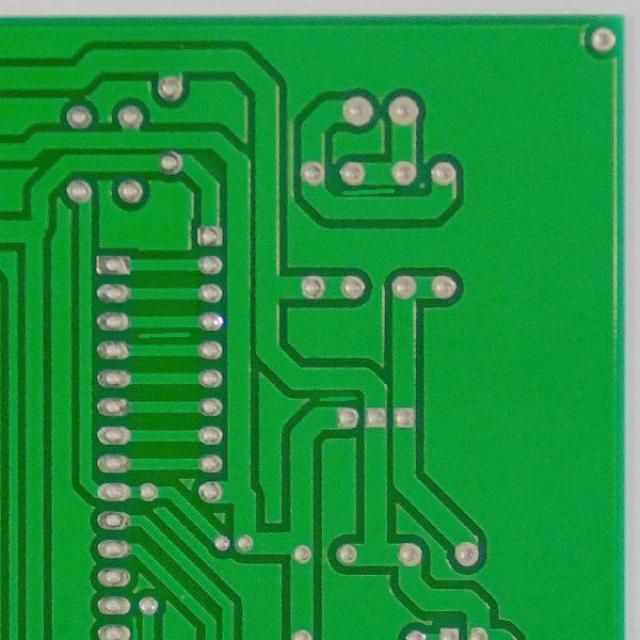Spurious_Cooper: (337, 182, 398, 198), (135, 326, 194, 342), (317, 392, 360, 404), (129, 611, 142, 639)
